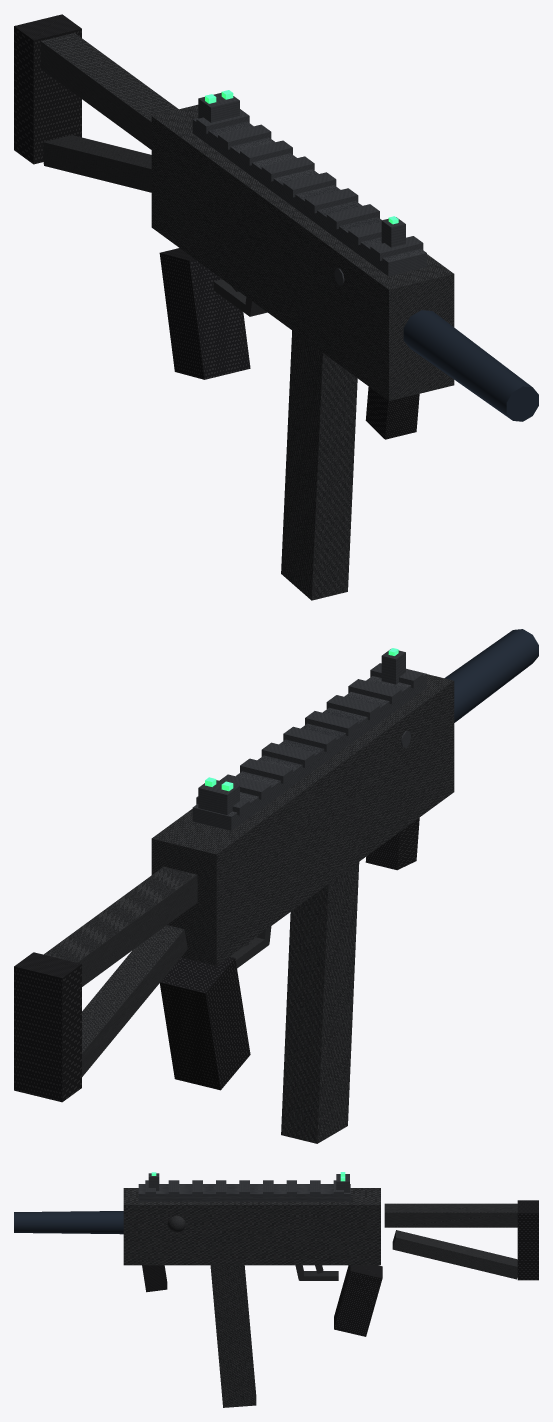
File: ump.glb
3 renders of one model, top to bottom at view 1: azimuth 30°, elevation 25°; view 2: azimuth 150°, elevation 25°; view 3: azimuth 270°, elevation 25°, orthographic. The views are drawn at different scales.
Visible parts, largest first — view 1: weapon_ump, MagazineNode; view 2: weapon_ump, MagazineNode; view 3: weapon_ump, MagazineNode.
Boxes of the visible parts, <box> form: weapon_ump: <box>14,14,538,439</box>; MagazineNode: <box>281,330,357,600</box>; weapon_ump: <box>14,629,538,1102</box>; MagazineNode: <box>281,862,359,1143</box>; weapon_ump: <box>14,1172,538,1336</box>; MagazineNode: <box>210,1265,256,1407</box>.
Size of the model in its own units: 0.0635 by 0.3354 by 0.694.
5 materials, 3 textured.
